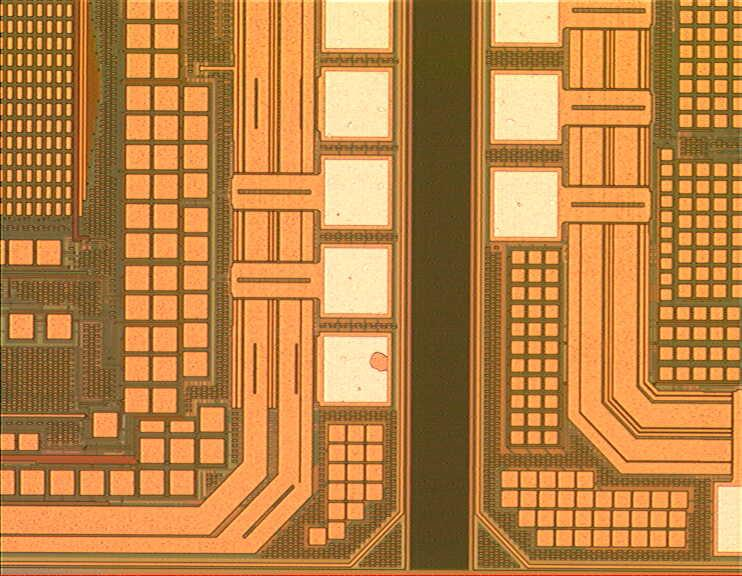BLOCK ETCH: (362, 346, 398, 382)
